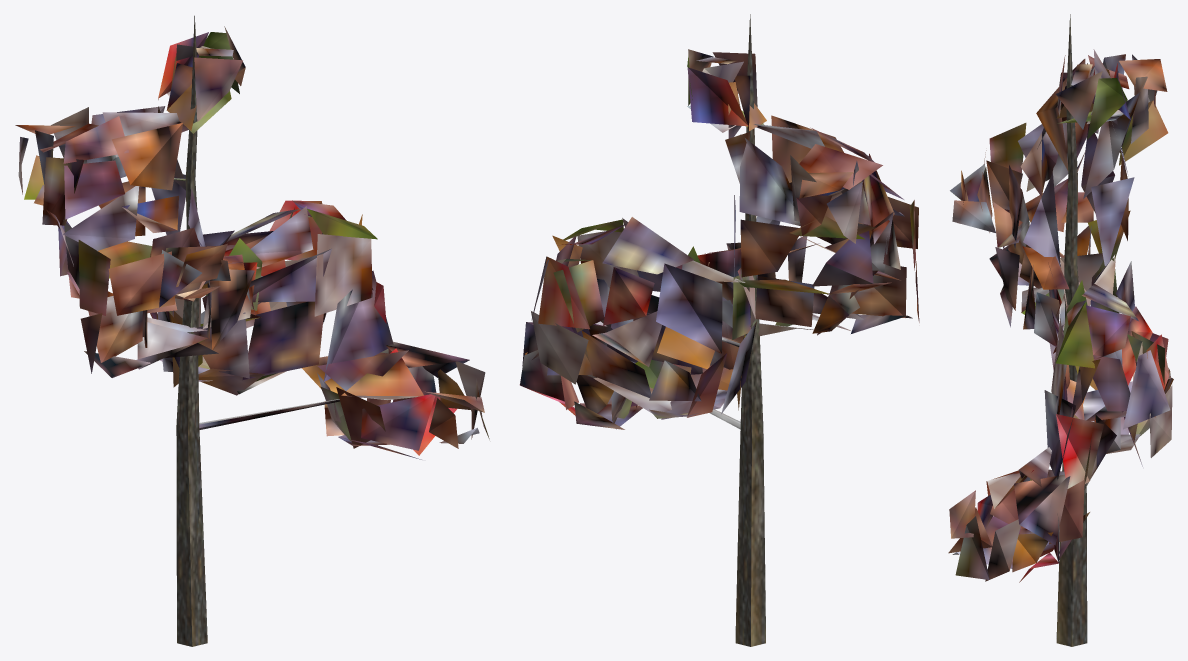
File: Tree08.fbx
The picture shows the model from 3 angles, left to right: view 1: azimuth 30°, elevation 25°; view 2: azimuth 150°, elevation 25°; view 3: azimuth 270°, elevation 25°; orthographic projection.
Parts seen in each view (by area): view 1: Tree08; view 2: Tree08; view 3: Tree08.
Part boxes in pixels (bbox=[...]): Tree08: bbox=[15, 15, 489, 646]; Tree08: bbox=[519, 14, 919, 646]; Tree08: bbox=[948, 14, 1173, 646].
Size of the model in its own units: 960 by 1445 by 473.
